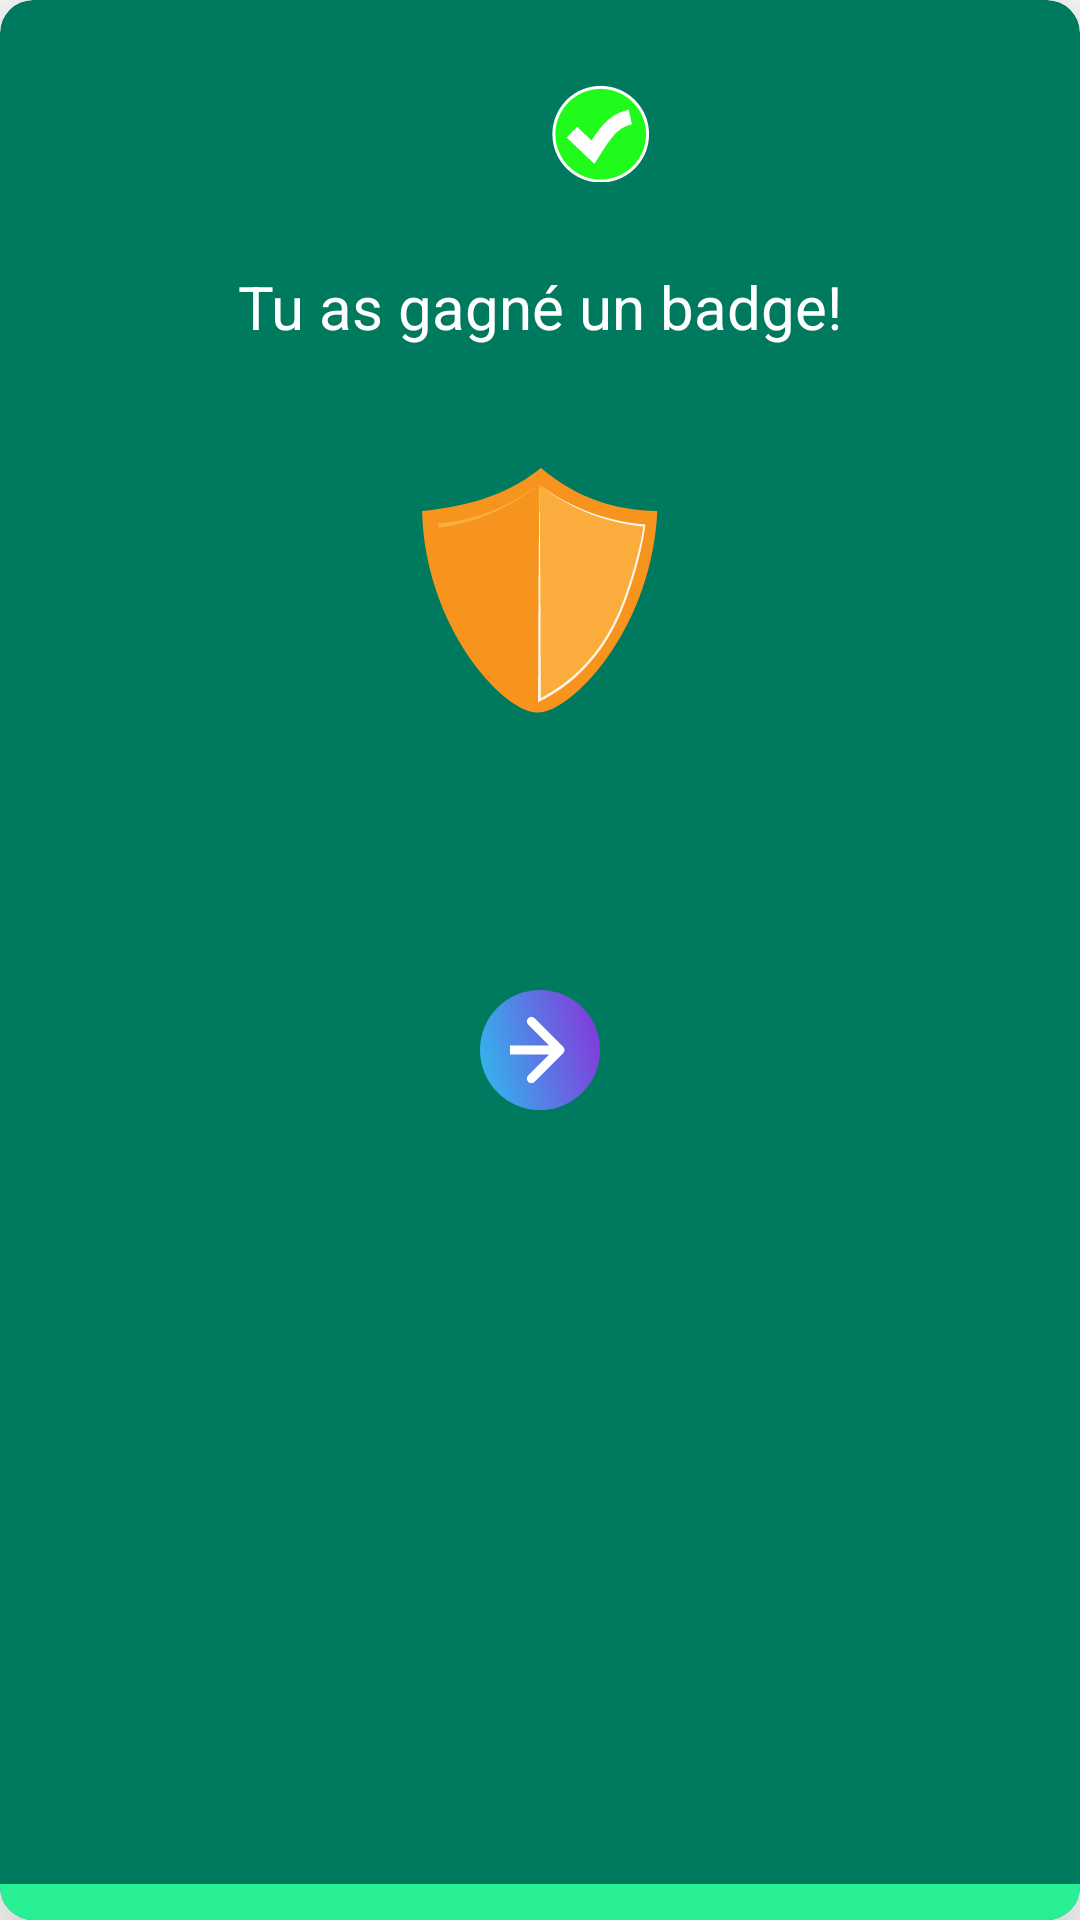

Where icons sit on this 1080px×1920px app screen, as (x1,y1,x2,y2):
correct: (552,85,649,182)
